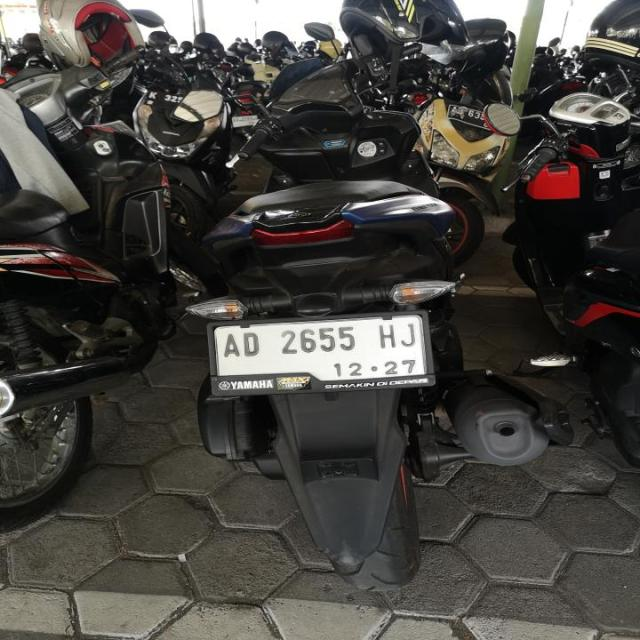License Plate: (201, 315, 448, 393), (446, 102, 492, 132)
